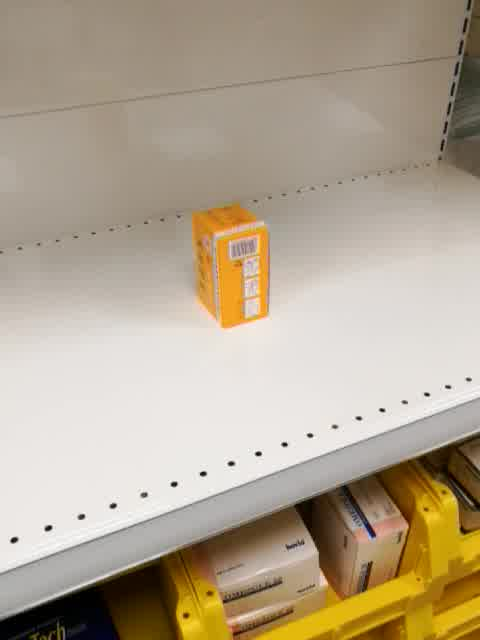jasminetea: (190, 203, 270, 330)
